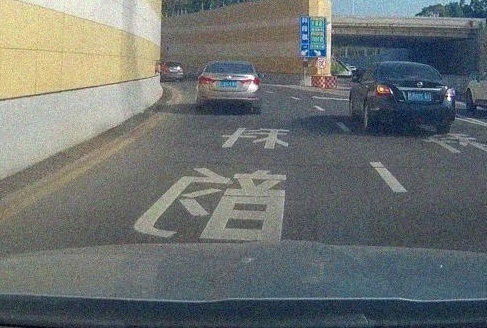L_light: (376, 85, 393, 94), (198, 76, 216, 83)
R_light: (241, 77, 259, 85), (443, 87, 455, 96)
T_light: (403, 63, 415, 67), (225, 63, 235, 65)
day-left: (375, 61, 455, 133)
day-no: (197, 60, 260, 113)
